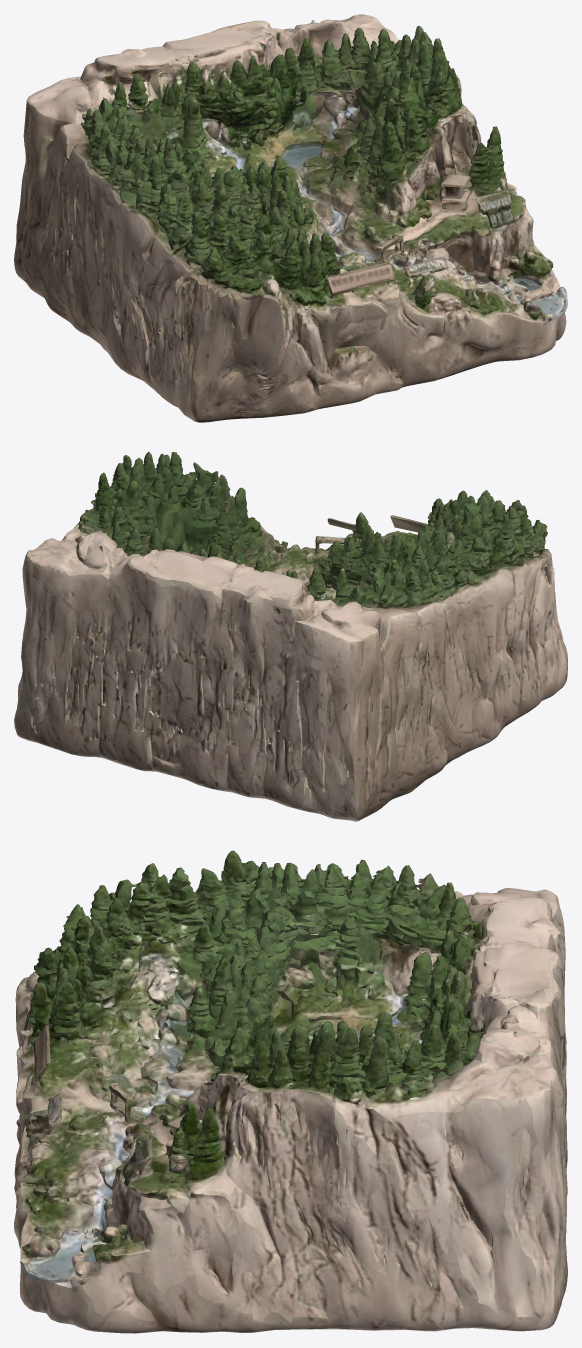
File: qianjiangyuan.min.glb
3 renders of one model, top to bottom at view 1: azimuth 30°, elevation 25°; view 2: azimuth 150°, elevation 25°; view 3: azimuth 270°, elevation 25°, orthographic. The views are drawn at different scales.
Visible parts, largest first — view 1: geometry_0; view 2: geometry_0; view 3: geometry_0.
Part boxes in pixels (x1,y1,x2,y2): geometry_0: (14,14,567,422); geometry_0: (14,451,567,821); geometry_0: (14,850,567,1333).
Size of the model in its own units: 0.3 by 0.172 by 0.2987.
1 material, 1 textured.
